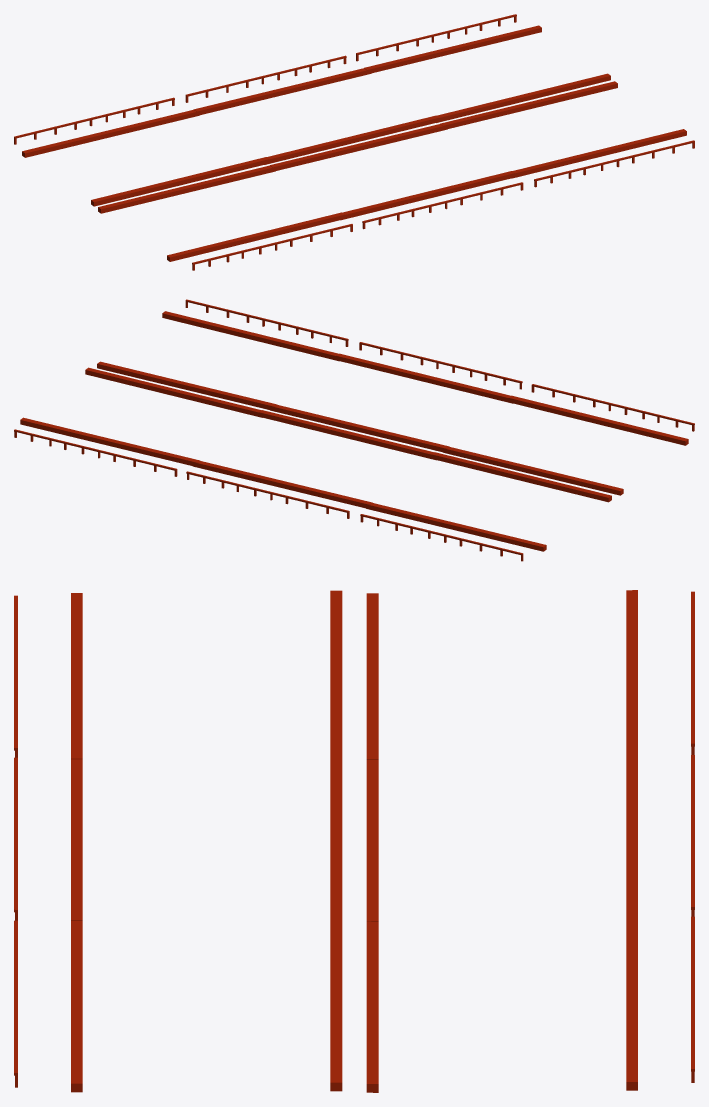
The model's file is road_decor.obj.
The picture shows the model from 3 angles, top to bottom: view 1: azimuth 30°, elevation 25°; view 2: azimuth 150°, elevation 25°; view 3: azimuth 270°, elevation 25°; orthographic projection. The views are drawn at different scales.
Parts seen in each view (by area): view 1: Cube.099_Cube.140, Cube.136_Cube.177, Cube.210_Cube.251, Cube.173_Cube.214, Cube.059_Cube.103, Cube.028_Cube.038; view 2: Cube.210_Cube.251, Cube.099_Cube.140, Cube.028_Cube.038, Cube.136_Cube.177, Cube.059_Cube.103, Cube.173_Cube.214; view 3: Cube.210_Cube.251, Cube.028_Cube.038, Cube.099_Cube.140, Cube.136_Cube.177, Cube.173_Cube.214, Cube.059_Cube.103.
Part boxes in pixels (box(x1,y1,x2,y2)): Cube.099_Cube.140: box(91, 157, 352, 270); Cube.136_Cube.177: box(14, 97, 275, 213); Cube.210_Cube.251: box(356, 14, 617, 128); Cube.173_Cube.214: box(185, 55, 447, 170); Cube.059_Cube.103: box(264, 115, 523, 229); Cube.028_Cube.038: box(436, 73, 694, 187); Cube.210_Cube.251: box(14, 361, 277, 476); Cube.099_Cube.140: box(432, 384, 694, 502); Cube.028_Cube.038: box(85, 299, 348, 417); Cube.136_Cube.177: box(360, 447, 623, 561); Cube.059_Cube.103: box(259, 342, 522, 460); Cube.173_Cube.214: box(186, 405, 449, 518); Cube.210_Cube.251: box(330, 915, 694, 1091); Cube.028_Cube.038: box(14, 920, 378, 1092); Cube.099_Cube.140: box(14, 593, 378, 759); Cube.136_Cube.177: box(330, 590, 694, 754); Cube.173_Cube.214: box(330, 753, 694, 916); Cube.059_Cube.103: box(14, 757, 378, 921).
Bounding box in the file's own units: 72.03 × 0.9902 × 42.01.
